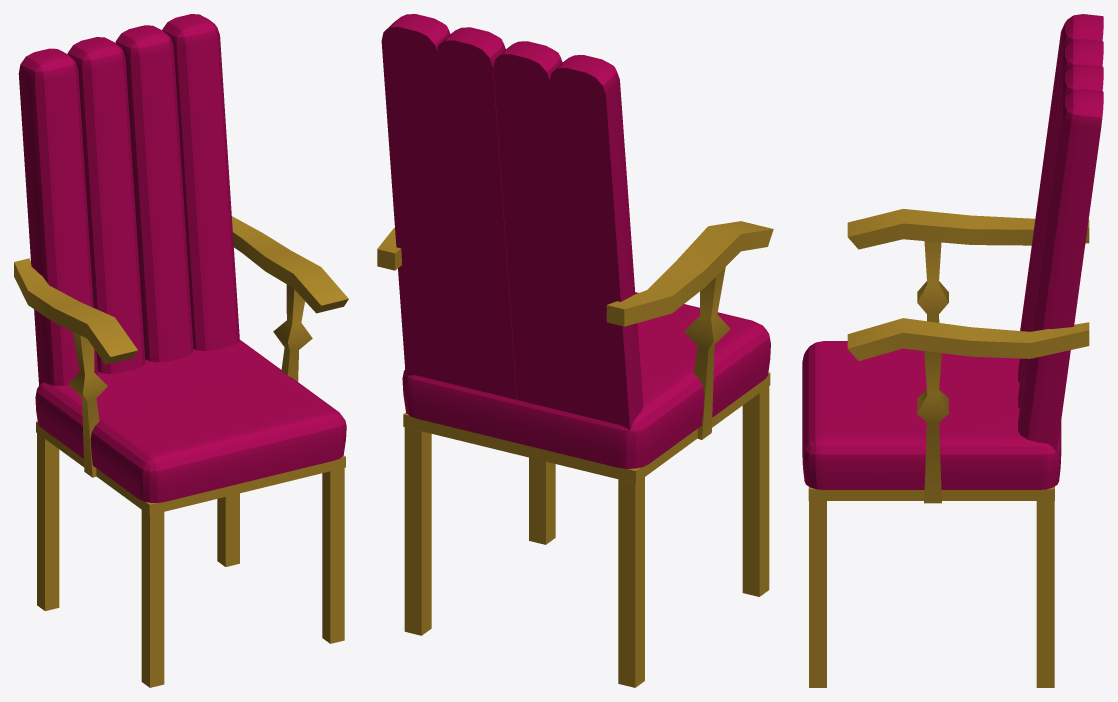
File: Chair.fbx
3 views of the same model, side by side, from view 1: azimuth 30°, elevation 25°; view 2: azimuth 150°, elevation 25°; view 3: azimuth 270°, elevation 25° (orthographic). The views are drawn at different scales.
Parts seen in each view (by area): view 1: polySurface1; view 2: polySurface1; view 3: polySurface1.
Boxes of the visible parts, box(x1,y1,x2,y2) form: polySurface1: box(14, 14, 348, 687); polySurface1: box(377, 14, 773, 687); polySurface1: box(802, 14, 1103, 687).
Bounding box in the file's own units: 5.35 × 11.45 × 5.4.
